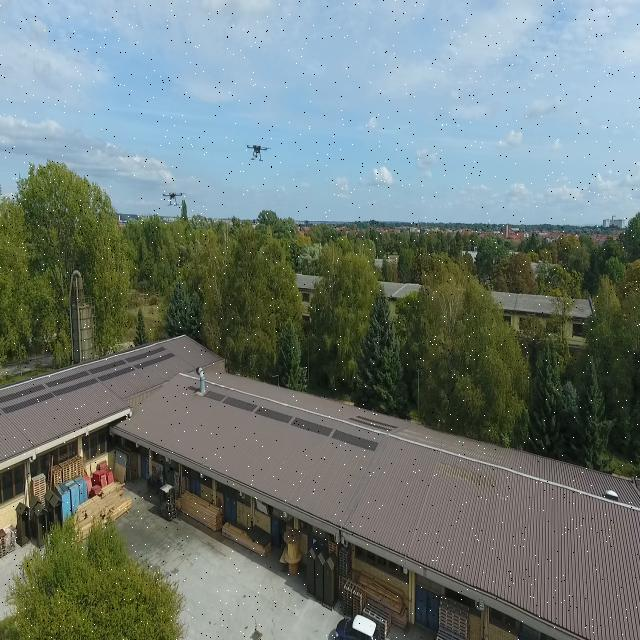UAV: (153, 186, 193, 209), (241, 137, 275, 163)
